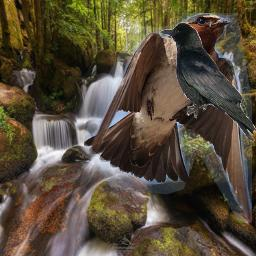Crow: (159, 22, 256, 142)
Swallow: (84, 13, 252, 223)
